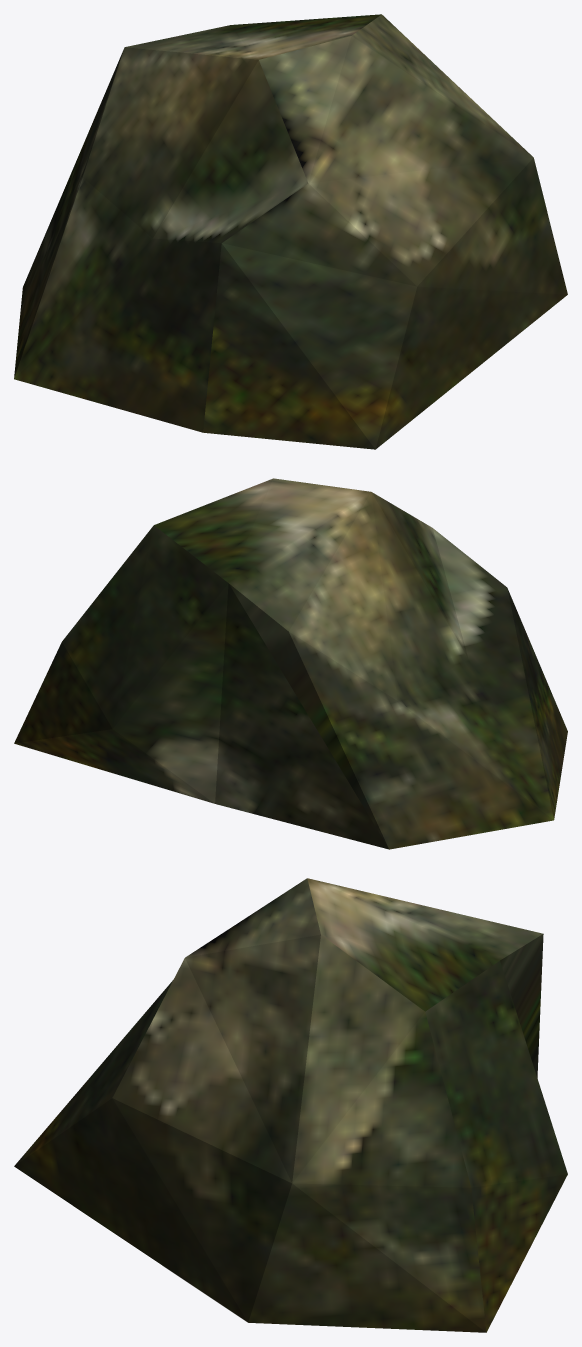
File: lianqizong_shitou24_st.FBX
3 renders of one model, top to bottom at view 1: azimuth 30°, elevation 25°; view 2: azimuth 150°, elevation 25°; view 3: azimuth 270°, elevation 25°, orthographic. The views are drawn at different scales.
Visible parts, largest first — view 1: lianqizong_shitou24_st_A; view 2: lianqizong_shitou24_st_A; view 3: lianqizong_shitou24_st_A.
Boxes of the visible parts, x1,y1,x2,y2 form: lianqizong_shitou24_st_A: (14,14,567,449); lianqizong_shitou24_st_A: (14,478,567,849); lianqizong_shitou24_st_A: (14,878,567,1332).
Bounding box in the file's own units: 9.67 × 5.01 × 8.4.
